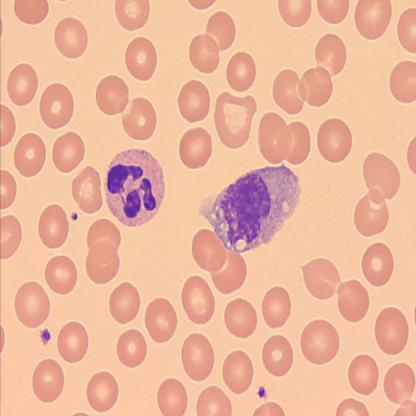Monocyte: (194, 162, 305, 255)
